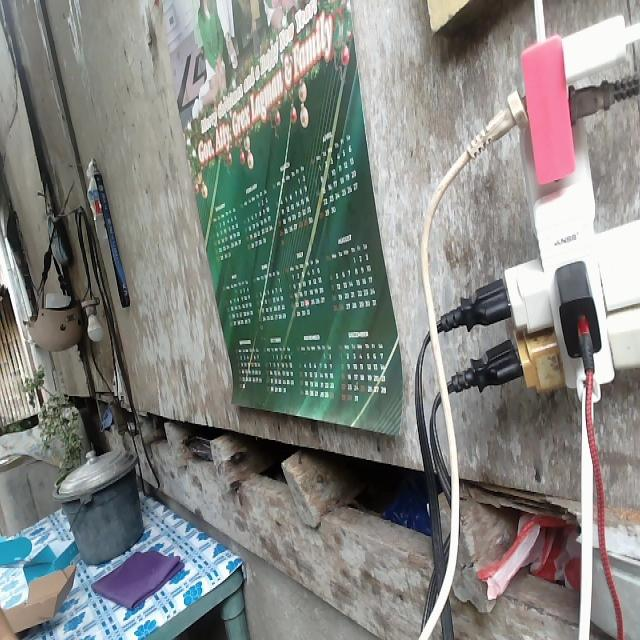-: (421, 14, 639, 427)
